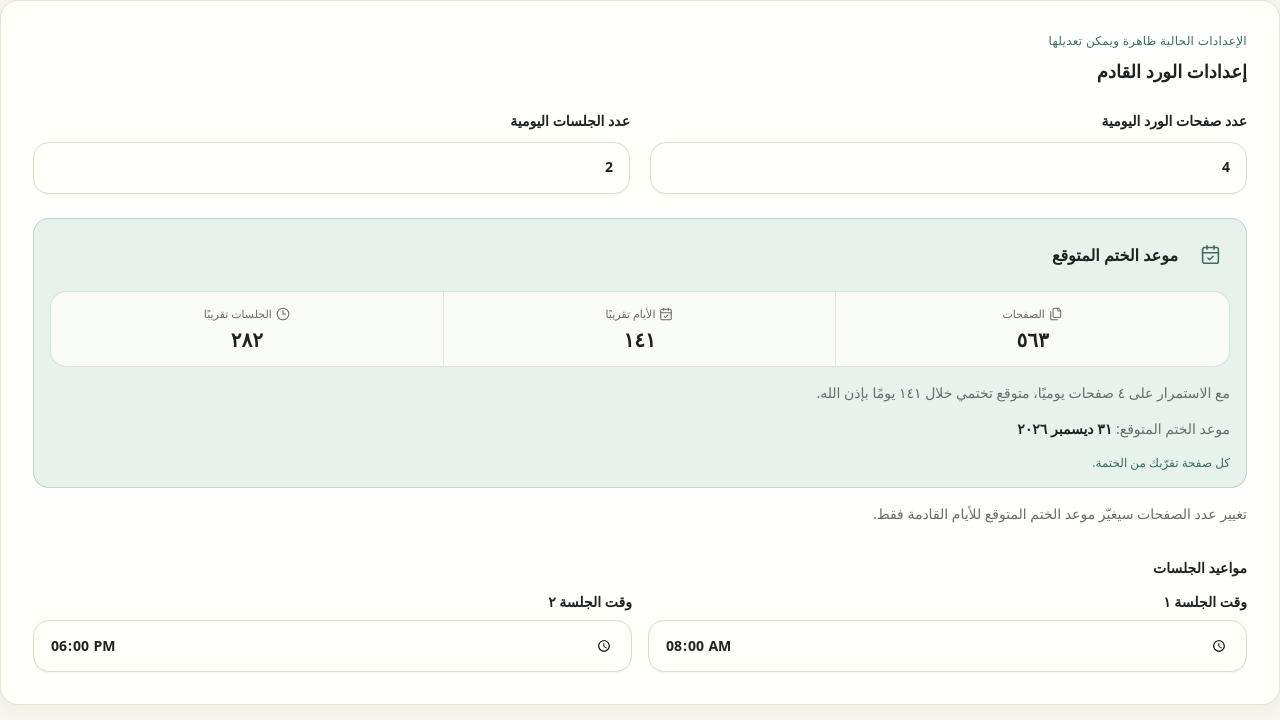
PlanSettingsForm › updates the completion estimate before saving without a mutation
Expected: the text "خلال ١٤١ يومًا" is shown, [816,382,1230,402]
Replace the text in the number field labelled "عدد صفحات الورد اليومية" with "6" at (948, 168), box [650,142,1247,194]
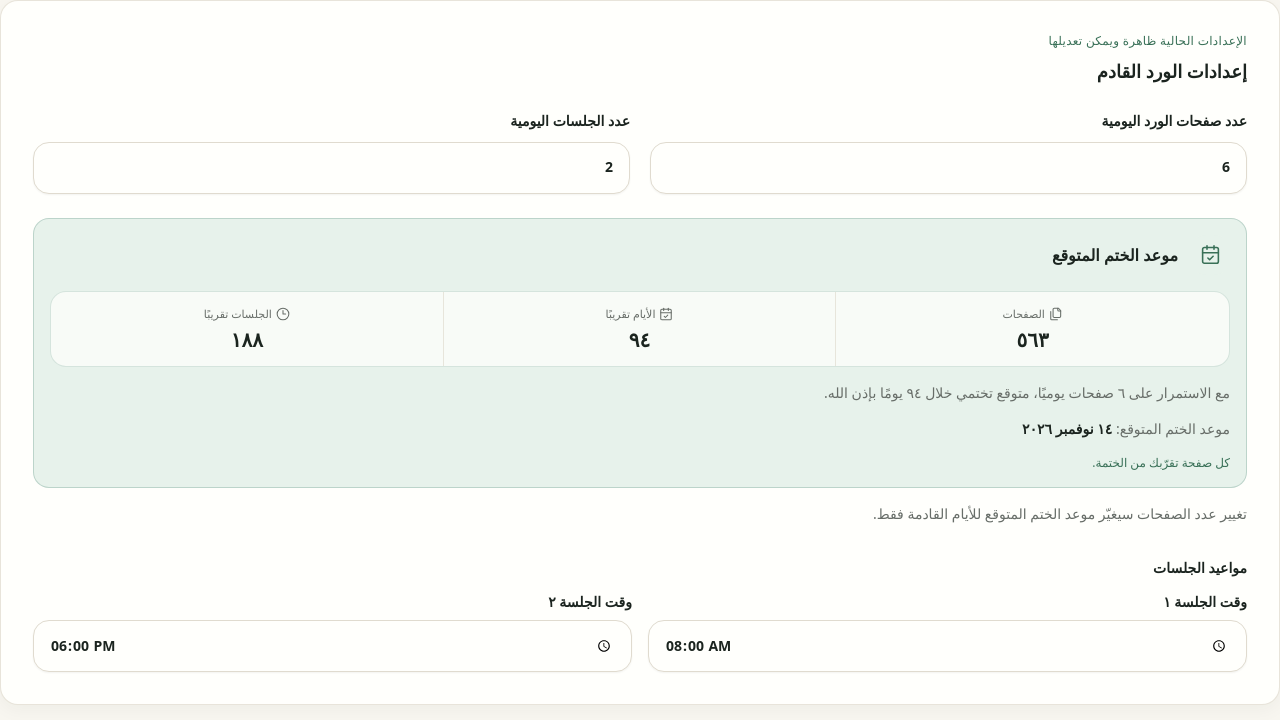
Expected: the text "تغيير عدد الصفحات سيغيّر موعد الختم المتوقع للأيام القادمة فقط." is shown, [873,504,1247,522]
Now the text "خلال ٩٤ يومًا" is shown, box [824,382,1230,402]
